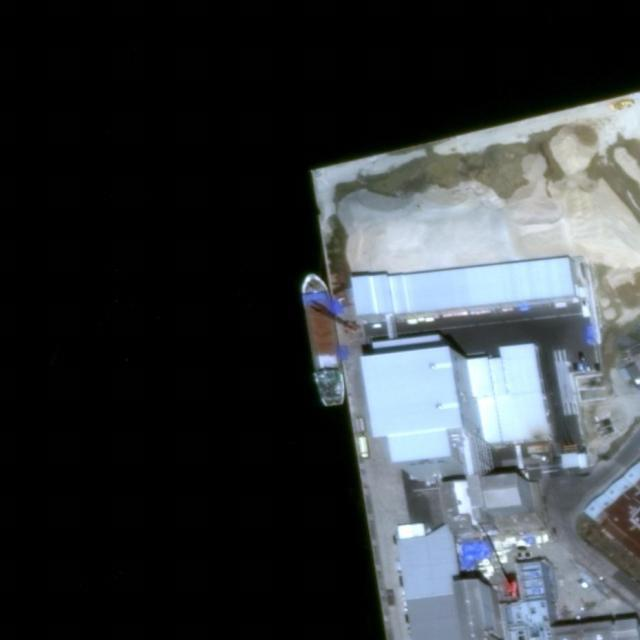Cargo: (295, 270, 350, 409)
